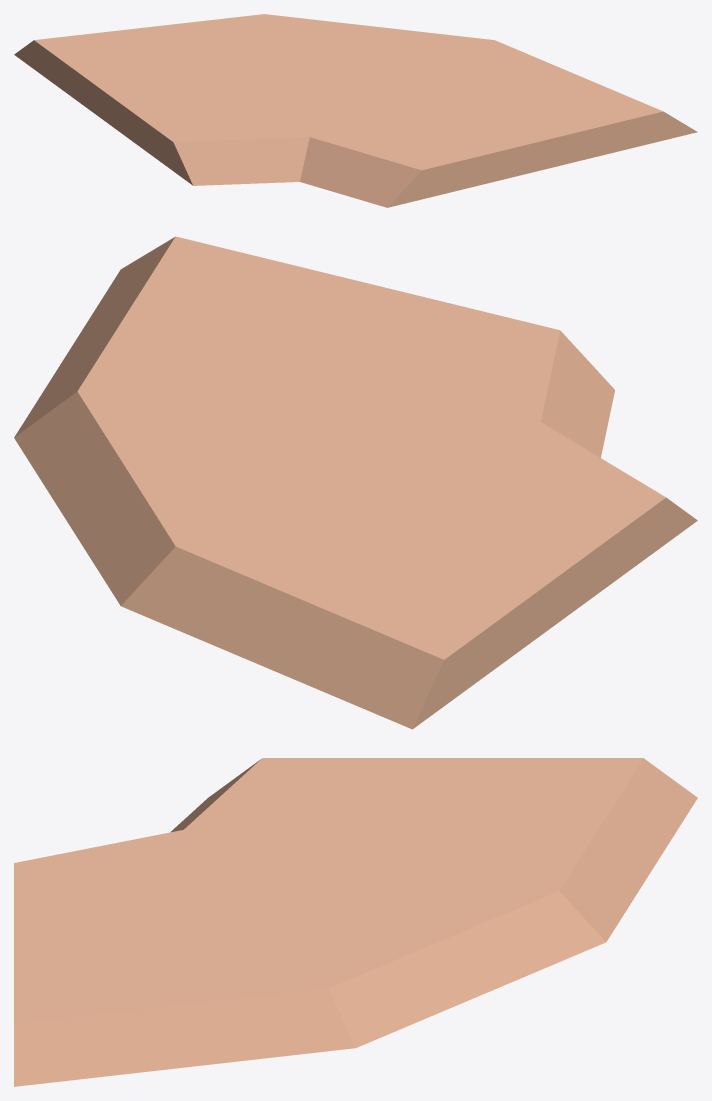
The model's file is crops_dirtrowcorner.glb.
3 views of the same model, one above another, from view 1: azimuth 30°, elevation 25°; view 2: azimuth 150°, elevation 25°; view 3: azimuth 270°, elevation 25° (orthographic). The views are drawn at different scales.
Parts seen in each view (by area): view 1: crops_dirtRowCorner; view 2: crops_dirtRowCorner; view 3: crops_dirtRowCorner.
Boxes of the visible parts, box(x1,y1,x2,y2) form: crops_dirtRowCorner: box(14, 14, 697, 207); crops_dirtRowCorner: box(14, 236, 697, 729); crops_dirtRowCorner: box(14, 758, 697, 1086).
Bounding box in the file's own units: 0.779 × 0.05 × 0.779.
